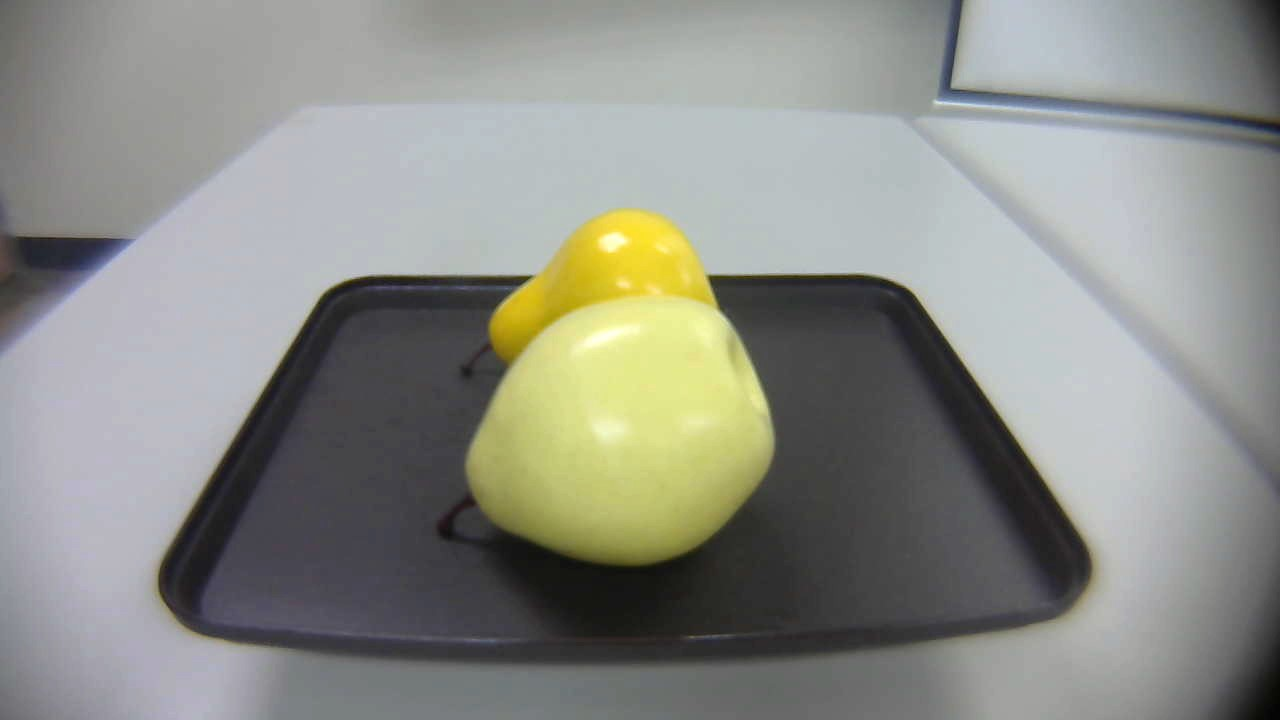western pear: (430, 301, 773, 566)
yellow pear: (441, 200, 734, 385)
